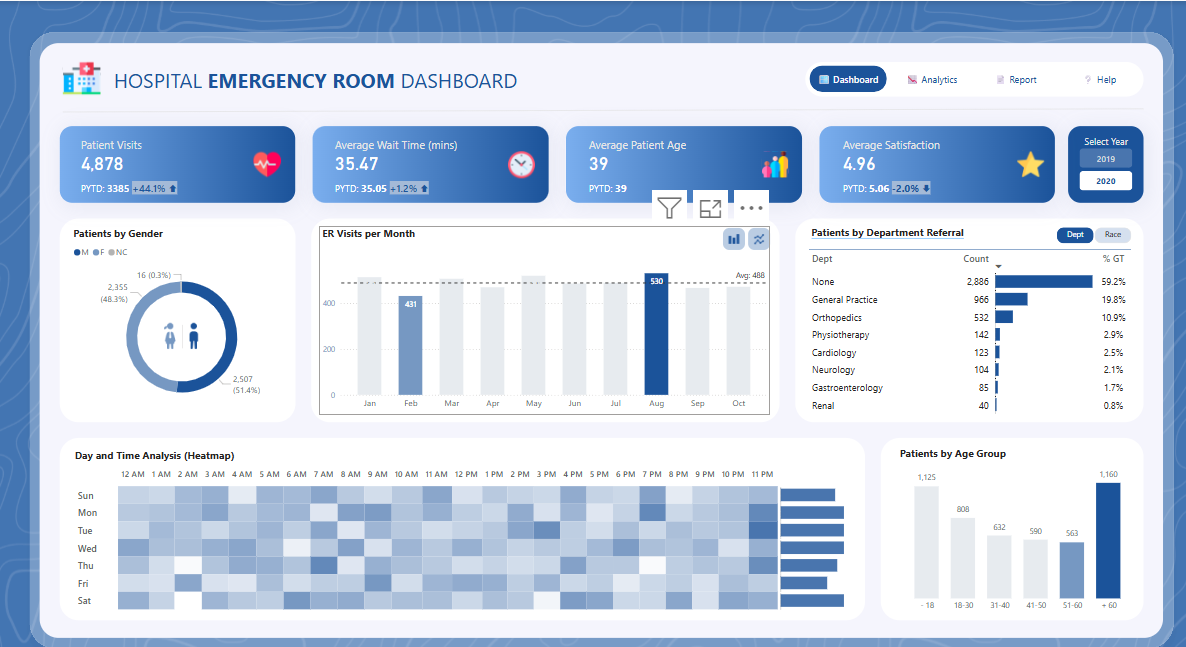

This screenshot's page, from the dashboard's own definition file:
{"tool":"powerbi","page":{"name":"🪟 Dashboard","canvas":[1920,1080],"ordinal":0},"visuals":[{"type":"cardVisual","fields":{"Data":["Hospital ER.Total Patient","Hospital ER.Average Wait Time","Hospital ER.Avg Patient Age","Hospital ER.Average SAT Score"]},"box":[119.6,194.6,1621.1,133.5],"z":0},{"type":"pivotTable","title":"Day and Time Analysis (Heatmap)","fields":{"Rows":["Calendar.Weekday Name"],"Columns":["Hospital ER.Time AM/PM"],"Values":["Hospital ER.Total Patient"]},"box":[121,710.2,1266.2,280.6],"z":1000},{"type":"donutChart","title":"Patients by Gender","fields":{"Y":["Hospital ER.Total Patient"],"Category":["Hospital ER.Gender"]},"box":[118.2,357.3,354.5,301.7],"z":2000},{"type":"clusteredColumnChart","title":"Patients by Age Group","fields":{"Category":["Age Bucket.Age Bucket"],"Y":["Hospital ER.Total Patient"]},"box":[1435.1,707.6,385.7,271.3],"z":3000},{"type":"textbox","box":[184.1,96.8,669.5,55.9],"z":4000},{"type":"advancedSlicerVisual","title":"Select Year","fields":{"Values":["Calendar.Year"]},"box":[1725.4,212.7,87.6,93.1],"z":5000},{"type":"pageNavigator","box":[1295.5,103.7,524,42.6],"z":7000},{"type":"tableEx","title":"Patient by Department Referral","fields":{"Values":["Hospital ER.Department Referral","_Measures.Total Patient","_Measures.Total Patients (Bar)","_Measures.Total Patients 2"]},"box":[1289.2,388.4,531.1,276.7],"z":8000},{"type":"advancedSlicerVisual","fields":{"Values":["Race-Department.Race-Department"]},"box":[1690,360,119.6,30],"z":9000},{"type":"textbox","box":[1294.1,351.6,268.7,49.2],"z":10000},{"type":"clusteredColumnChart","title":"ER Visits per Month","fields":{"Category":["Calendar.Month"],"Y":["Hospital ER.Total Patient"]},"box":[514.7,357.1,718.2,300.6],"z":11000},{"type":"image","box":[244.7,503.6,102.7,60.5],"z":13000},{"type":"actionButton","box":[1159,352,32,48],"z":15000},{"type":"actionButton","box":[1200,352,32,48],"z":16000}]}

Visuals, with their boxes on the page's 1920x1080 design canvas (x1, y1, x2, y2). These are canvas units, not pixel positions in the 1186x647 screenshot, which may show the page scaled, cropped or inside an application window:
cardVisual - Hospital ER.Total Patient x Hospital ER.Average Wait Time: (120, 195, 1741, 328)
"Day and Time Analysis (Heatmap)" pivotTable: (121, 710, 1387, 991)
"Patients by Gender" donutChart: (118, 357, 473, 659)
"Patients by Age Group" clusteredColumnChart: (1435, 708, 1821, 979)
textbox: (184, 97, 854, 153)
"Select Year" advancedSlicerVisual: (1725, 213, 1813, 306)
pageNavigator: (1296, 104, 1820, 146)
"Patient by Department Referral" tableEx: (1289, 388, 1820, 665)
advancedSlicerVisual - Race-Department.Race-Department: (1690, 360, 1810, 390)
textbox: (1294, 352, 1563, 401)
"ER Visits per Month" clusteredColumnChart: (515, 357, 1233, 658)
image: (245, 504, 347, 564)
actionButton: (1159, 352, 1191, 400)
actionButton: (1200, 352, 1232, 400)
